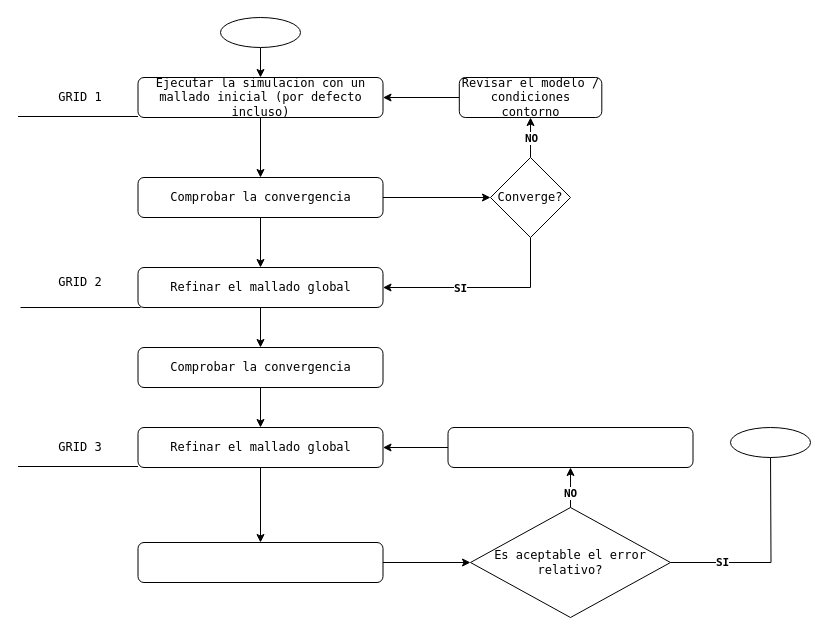
Some shapes in this 828 by 635 pixel diagram are drawn without their labels. Each missing label, with the centre of its shape:
Comprobar los resutados: (x=260, y=562)
FIN: (x=770, y=442)
INICIO: (x=260, y=32)
Volver a crear GRIDS hasta la convergencia: (x=570, y=447)
